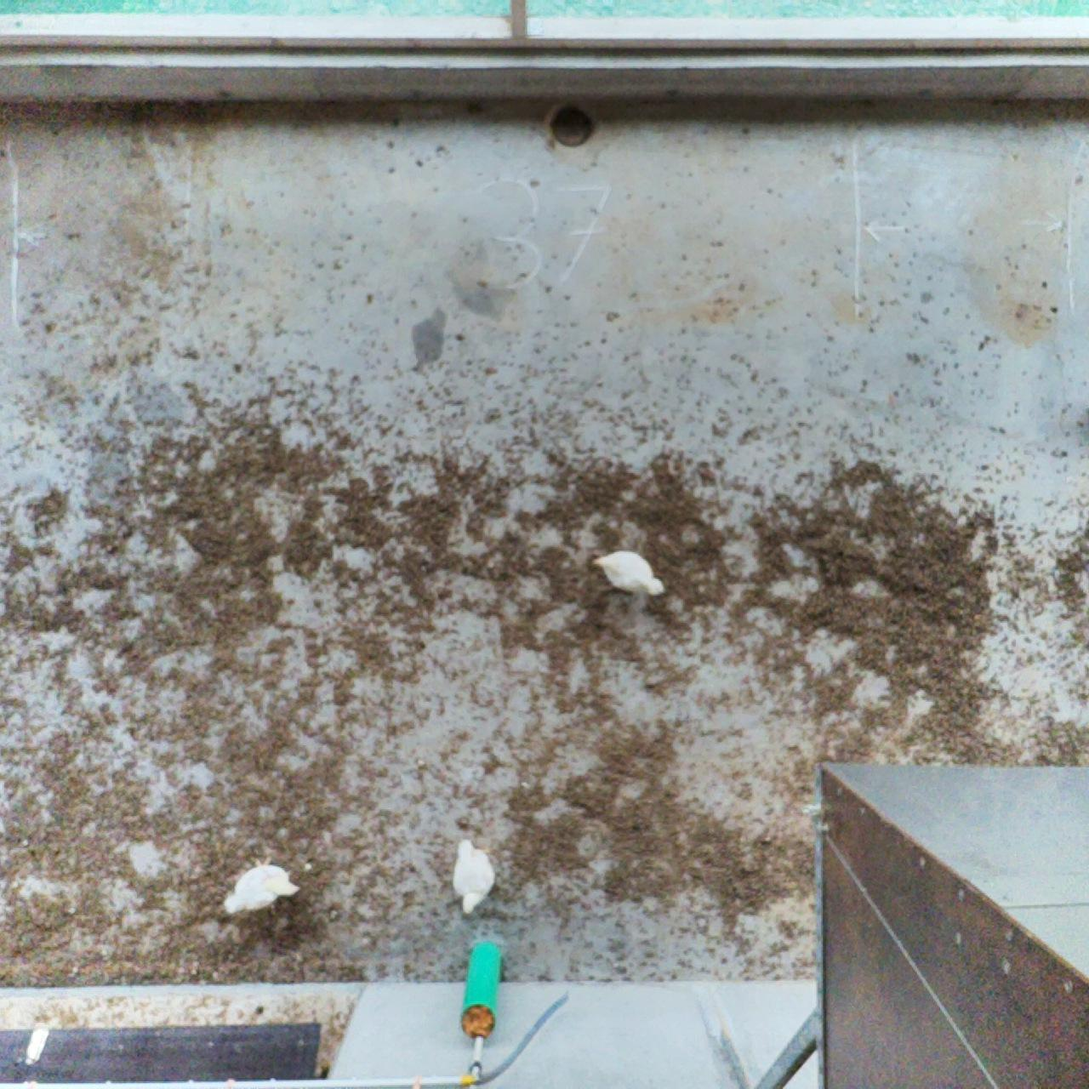chicken: (219, 851, 304, 917), (589, 547, 667, 604), (449, 831, 499, 917)
